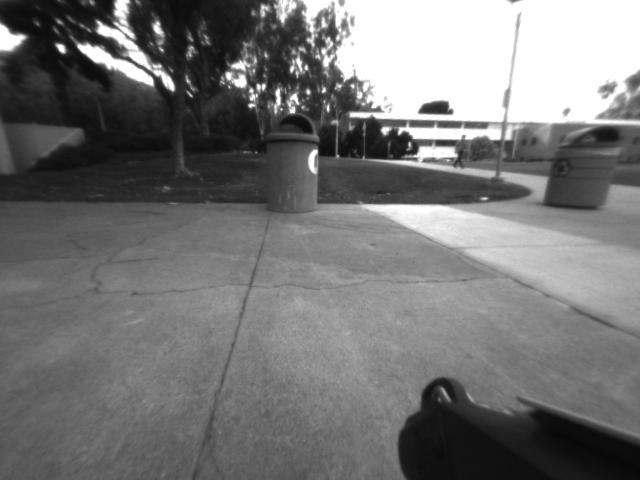trashcan: (255, 114, 325, 222)
